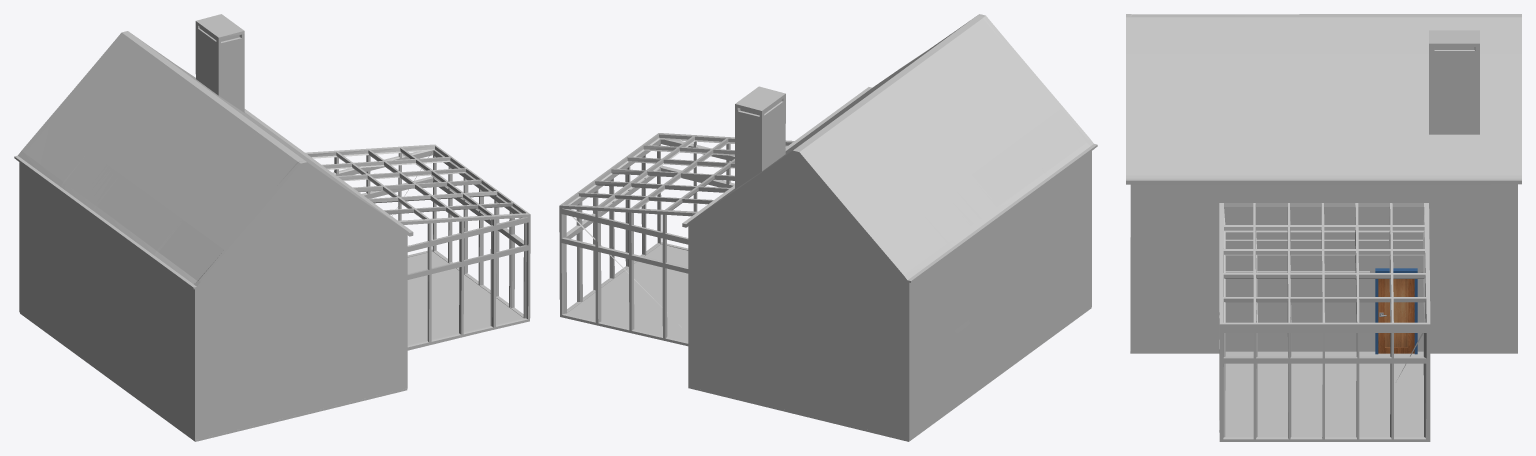
Rendered from GEO_GreenhouseFull.fbx.
3 renders of one model, left to right at view 1: azimuth 30°, elevation 25°; view 2: azimuth 150°, elevation 25°; view 3: azimuth 270°, elevation 25°, orthographic. The views are drawn at different scales.
Visible parts, largest first — view 1: GEO_Greenhouse, GEO_Floor; view 2: GEO_Greenhouse, GEO_Floor; view 3: GEO_Greenhouse, GEO_Floor, GEO_Door.
Boxes of the visible parts, bbox=[...] form: GEO_Greenhouse: bbox=[14, 14, 530, 440]; GEO_Floor: bbox=[20, 251, 523, 441]; GEO_Greenhouse: bbox=[559, 14, 1097, 440]; GEO_Floor: bbox=[567, 244, 1091, 441]; GEO_Greenhouse: bbox=[1126, 14, 1521, 441]; GEO_Floor: bbox=[1130, 237, 1517, 436]; GEO_Door: bbox=[1375, 268, 1417, 354].
Size of the model in its own units: 805 by 542 by 658.
